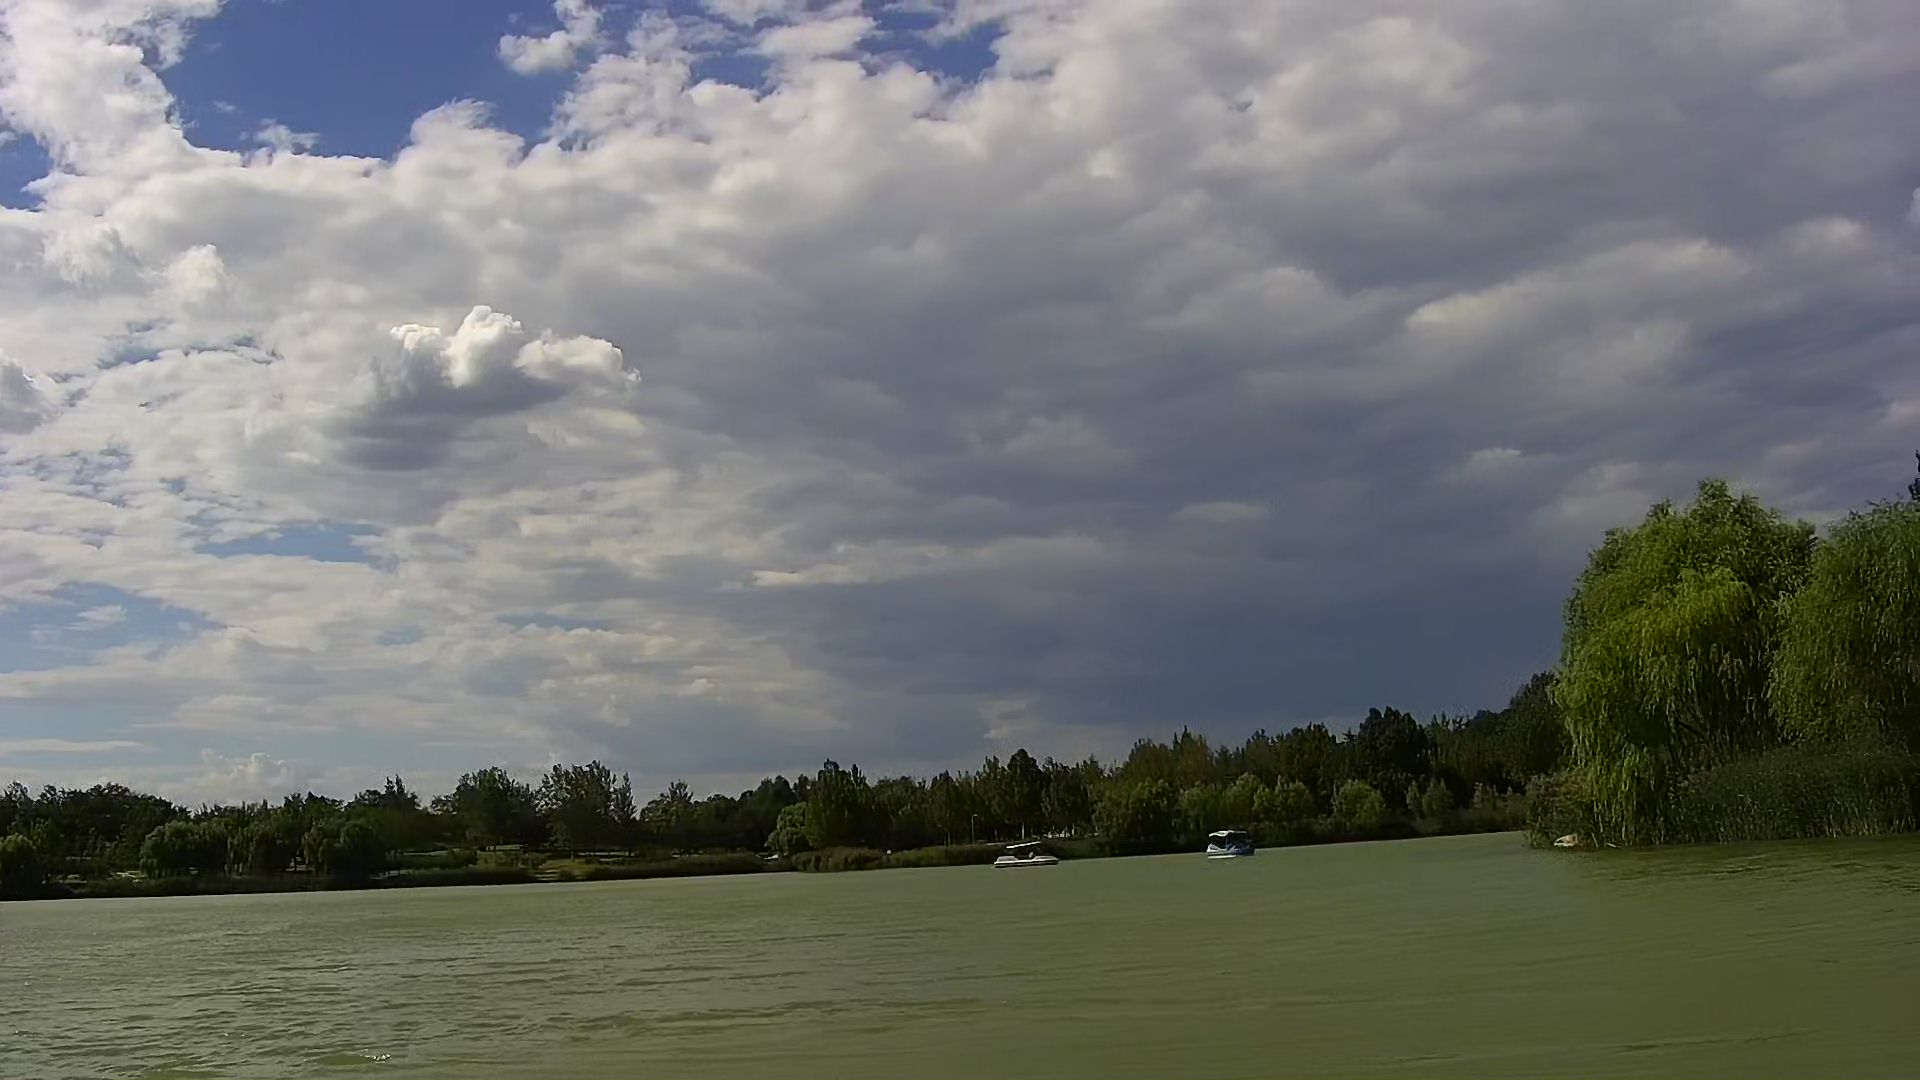boat: (996, 841, 1058, 870), (1205, 829, 1250, 862)
rock: (1553, 829, 1582, 851)
